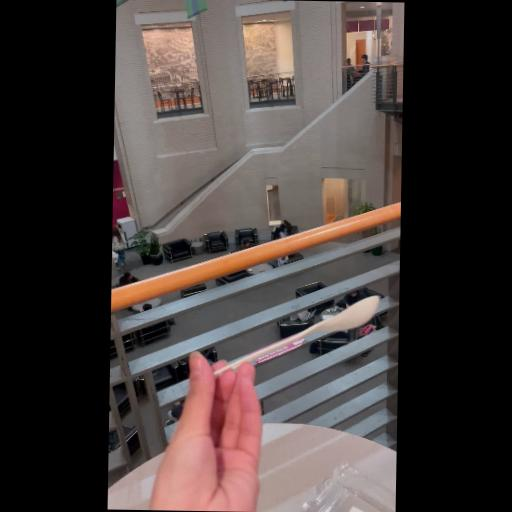utensil: (208, 289, 382, 386)
